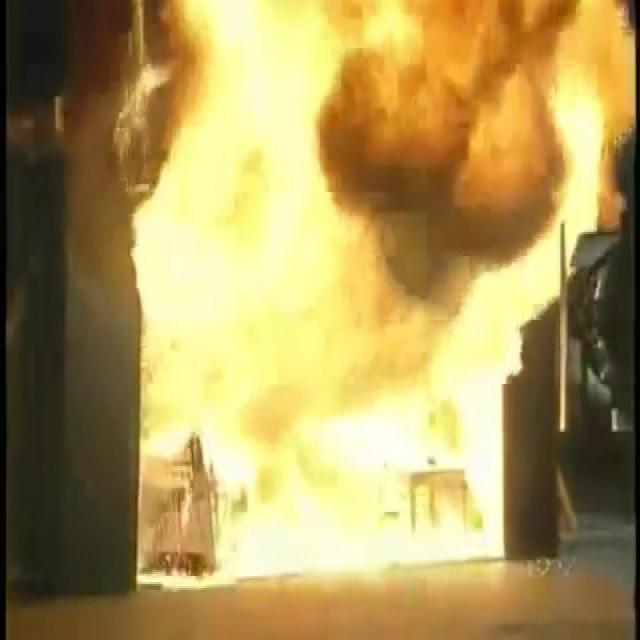Fire: (139, 0, 612, 584)
